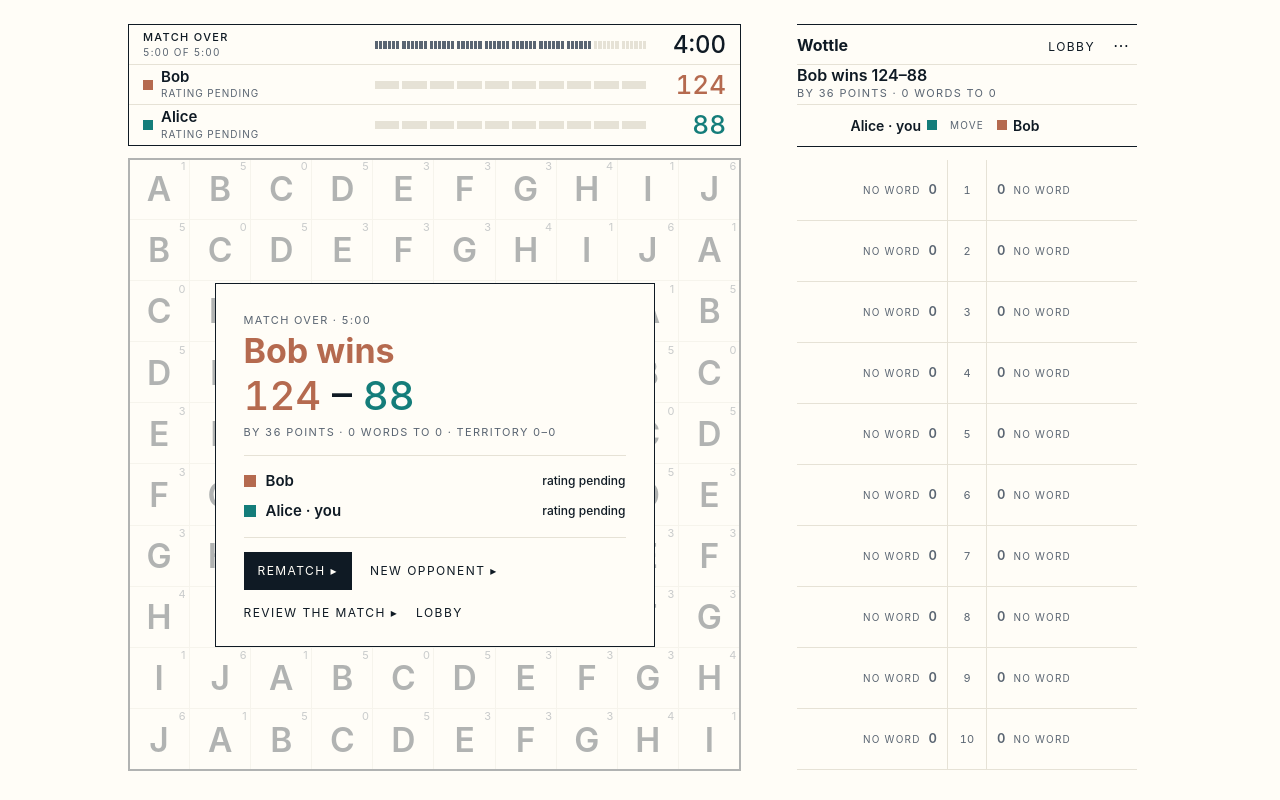
Test: MatchRoomController (spec 050) › lobby on the match-over slip takes the slip down before it navigates
The width and height of the screenshot is (1280, 800).
Expected: the dialog with test id "slip" is shown, [214,282,654,646]
Click the button "lobby" below "match over · 5:00": (439, 612) [416,604,463,622]
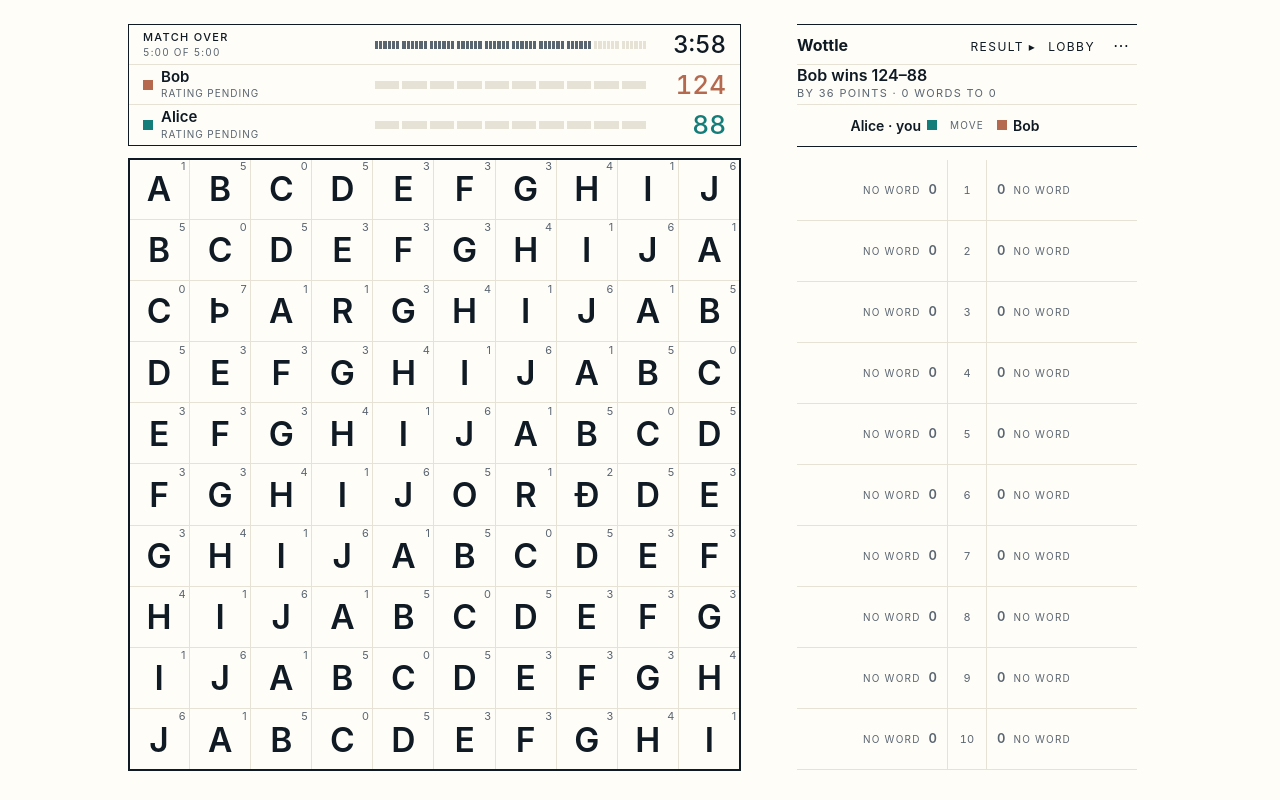
Now the dialog with test id "slip" is gone
